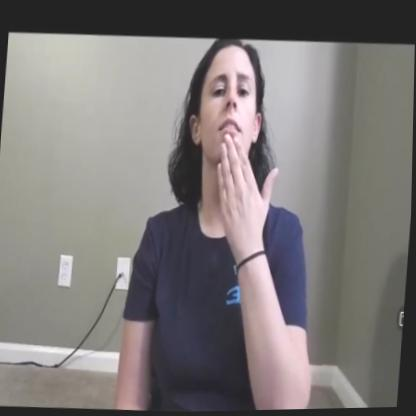ThankYou: (178, 34, 291, 257)
